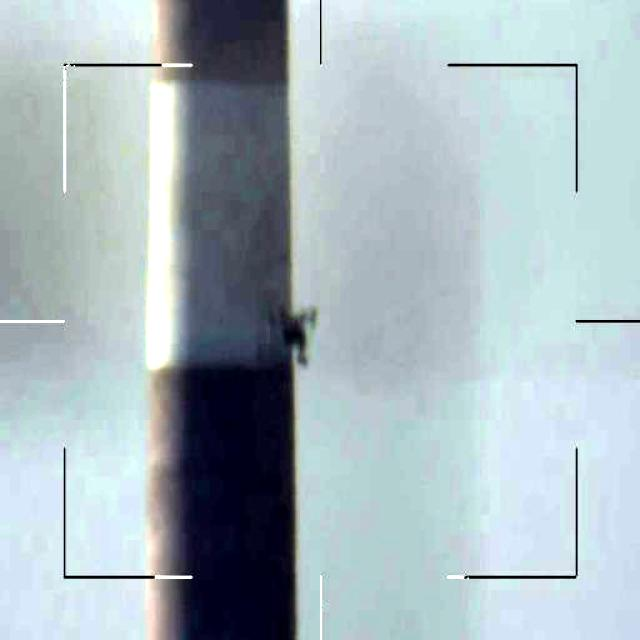bird: (268, 295, 326, 362)
